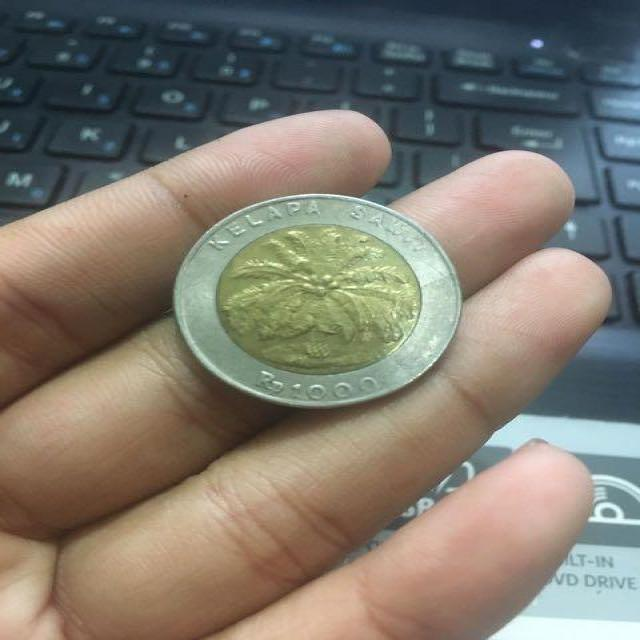1000-sawit: (171, 186, 474, 416)
